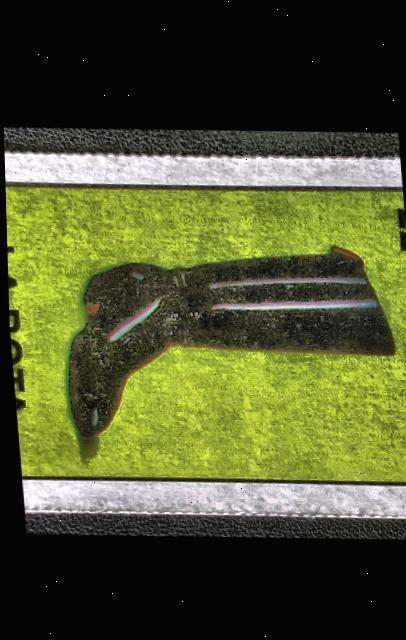La Bota: (3, 148, 406, 518)
